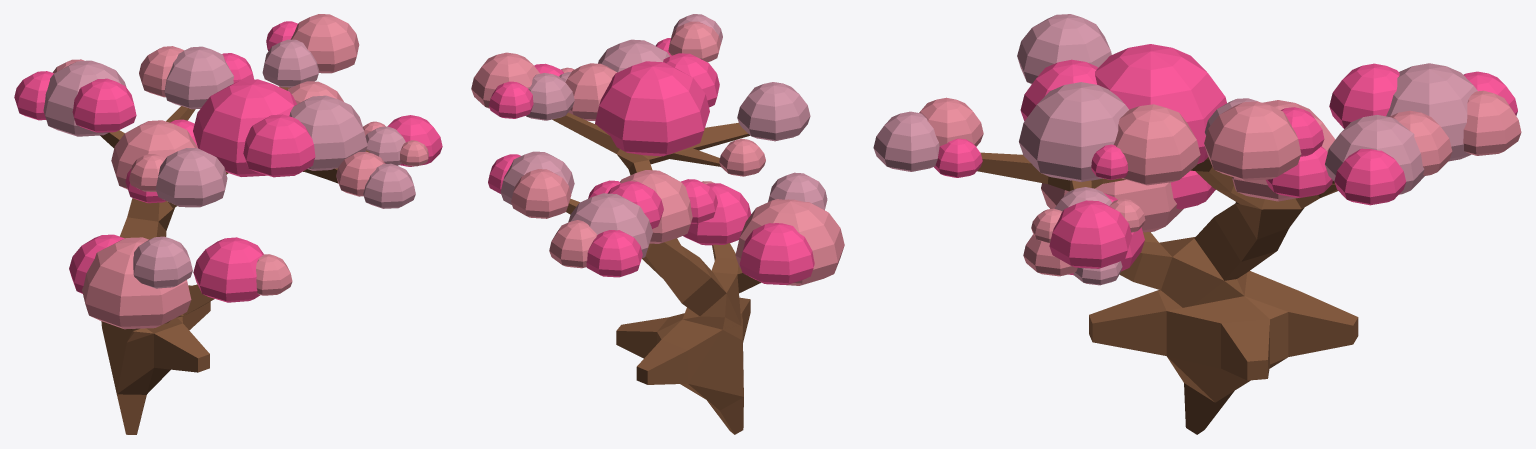
The model's file is PinkTree.fbx.
3 renders of one model, left to right at view 1: azimuth 30°, elevation 25°; view 2: azimuth 150°, elevation 25°; view 3: azimuth 270°, elevation 25°, orthographic. The views are drawn at different scales.
Visible parts, largest first — view 1: TreeTrunk, Blossom.028, Blossom.007, Blossom.001, Blossom.003, Blossom.029, Blossom.016, Blossom.019, Blossom.022, Blossom.024, Blossom.013, Blossom.018 (+16 smaller); view 2: TreeTrunk, Blossom.007, Blossom.028, Blossom.031, Blossom.016, Blossom.022, Blossom.018, Blossom.021, Blossom.029, Blossom.025, Blossom.013, Blossom.002 (+13 smaller); view 3: TreeTrunk, Blossom.001, Blossom.007, Blossom.013, Blossom.002, Blossom.022, Blossom.004, Blossom.016, Blossom.019, Blossom.020, Blossom.005, Blossom.024 (+17 smaller).
Part boxes in pixels (left/top/right/bottom): TreeTrunk: left=100, top=86, right=369, bottom=434; Blossom.028: left=82, top=237, right=191, bottom=329; Blossom.007: left=193, top=79, right=296, bottom=176; Blossom.001: left=289, top=95, right=367, bottom=170; Blossom.003: left=243, top=114, right=315, bottom=177; Blossom.029: left=193, top=237, right=263, bottom=302; Blossom.016: left=155, top=148, right=227, bottom=207; Blossom.019: left=164, top=46, right=233, bottom=109; Blossom.022: left=43, top=60, right=126, bottom=136; Blossom.024: left=72, top=78, right=136, bottom=132; Blossom.013: left=290, top=14, right=359, bottom=73; Blossom.018: left=111, top=120, right=197, bottom=189; TreeTrunk: left=552, top=112, right=761, bottom=434; Blossom.007: left=595, top=61, right=709, bottom=156; Blossom.028: left=735, top=199, right=844, bottom=285; Blossom.031: left=739, top=223, right=814, bottom=284; Blossom.016: left=737, top=82, right=810, bottom=141; Blossom.022: left=568, top=193, right=652, bottom=258; Blossom.018: left=620, top=170, right=692, bottom=243; Blossom.021: left=511, top=169, right=571, bottom=218; Blossom.029: left=683, top=183, right=751, bottom=245; Blossom.025: left=586, top=230, right=642, bottom=277; Blossom.013: left=471, top=52, right=539, bottom=108; Blossom.002: left=565, top=63, right=616, bottom=120; TreeTrunk: left=977, top=152, right=1358, bottom=434; Blossom.001: left=1019, top=82, right=1128, bottom=182; Blossom.007: left=1095, top=44, right=1226, bottom=164; Blossom.013: left=1204, top=101, right=1301, bottom=180; Blossom.002: left=1113, top=104, right=1200, bottom=185; Blossom.022: left=1386, top=63, right=1477, bottom=161; Blossom.004: left=1049, top=200, right=1131, bottom=268; Blossom.016: left=1017, top=14, right=1111, bottom=84; Blossom.019: left=1325, top=115, right=1424, bottom=194; Blossom.020: left=1334, top=148, right=1406, bottom=205; Blossom.005: left=873, top=111, right=939, bottom=171; Blossom.024: left=1329, top=63, right=1399, bottom=128.
Size of the model in its own units: 722 by 900 by 709.
